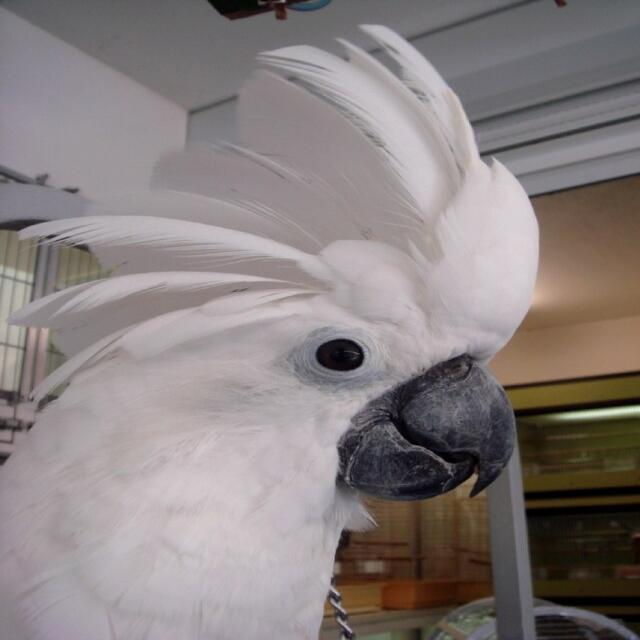Kakatua Putih: (2, 10, 563, 640)
